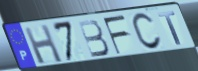7: (52, 20, 76, 64)
B: (77, 18, 111, 59)
C: (131, 12, 164, 52)
F: (102, 14, 131, 57)
H: (22, 23, 65, 66)
T: (157, 10, 184, 46)
